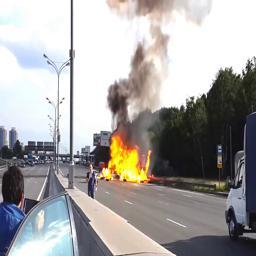fire: (102, 135, 151, 184)
